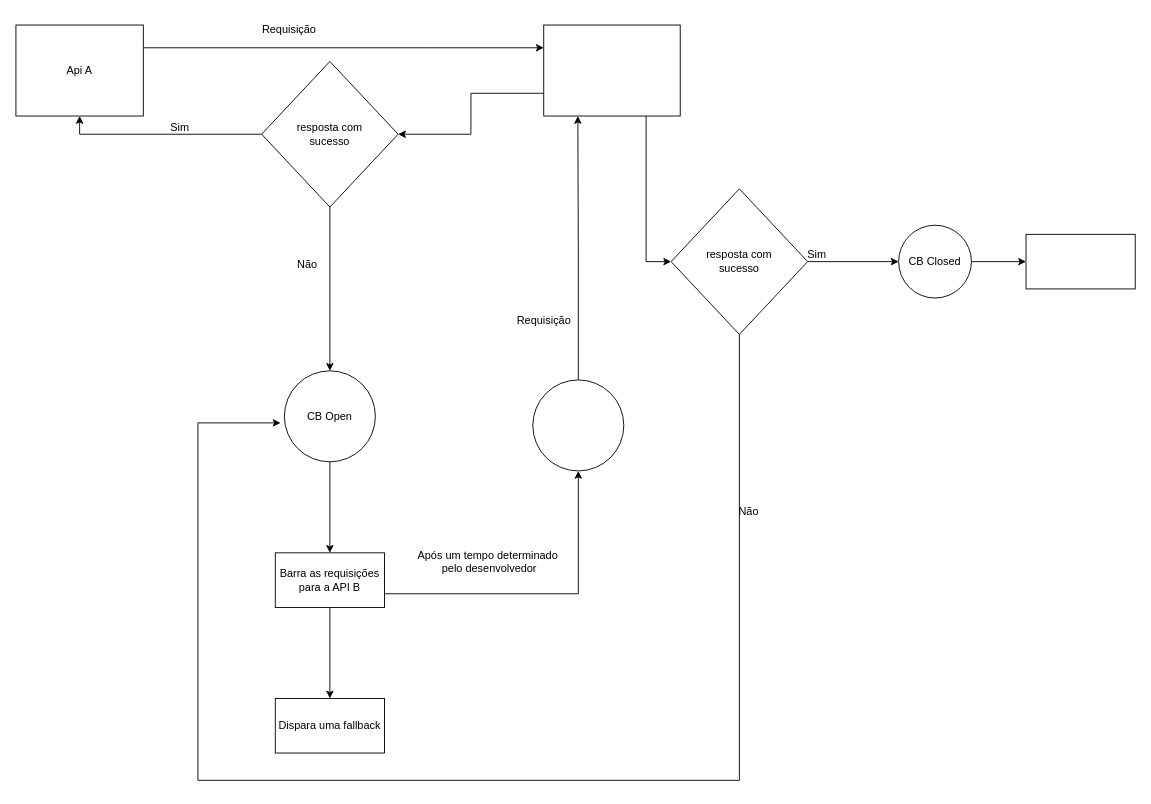
Some shapes in this 1151 by 804 pixel diagram are drawn without their labels. The shapes that lost their labels are listed below. From the top down, each one's centre as x and y in pixels, then its label:
At pixel 611 70: "Api B".
At pixel 1080 261: "API B voltou a responder com sucesso".
At pixel 578 425: "CB Half Open".
